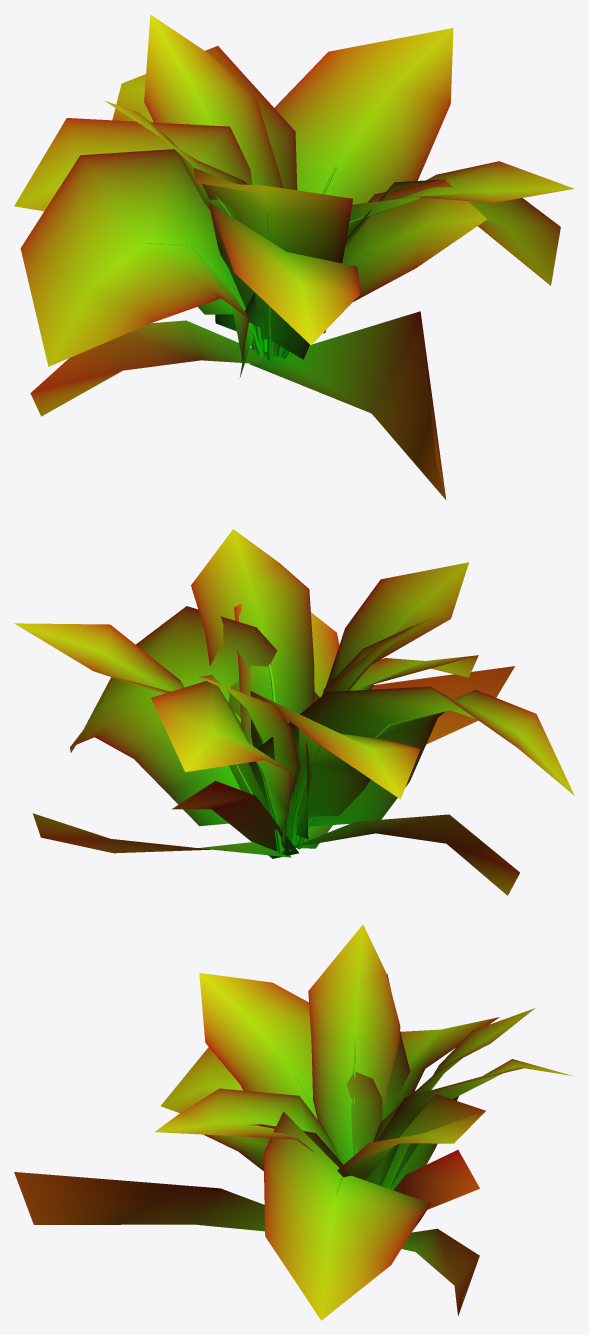
File: Silver Lady Fern_LOD3_Var1_ubolejkia.fbx
3 renders of one model, top to bottom at view 1: azimuth 30°, elevation 25°; view 2: azimuth 150°, elevation 25°; view 3: azimuth 270°, elevation 25°, orthographic. The views are drawn at different scales.
Parts seen in each view (by area): view 1: _8967_Var1_LOD3; view 2: _8967_Var1_LOD3; view 3: _8967_Var1_LOD3.
Part boxes in pixels (x1=…): _8967_Var1_LOD3: x1=14, y1=14, x2=574, y2=499; _8967_Var1_LOD3: x1=14, y1=529, x2=574, y2=895; _8967_Var1_LOD3: x1=14, y1=924, x2=573, y2=1320.
Size of the model in its own units: 165 by 92.63 by 183.
